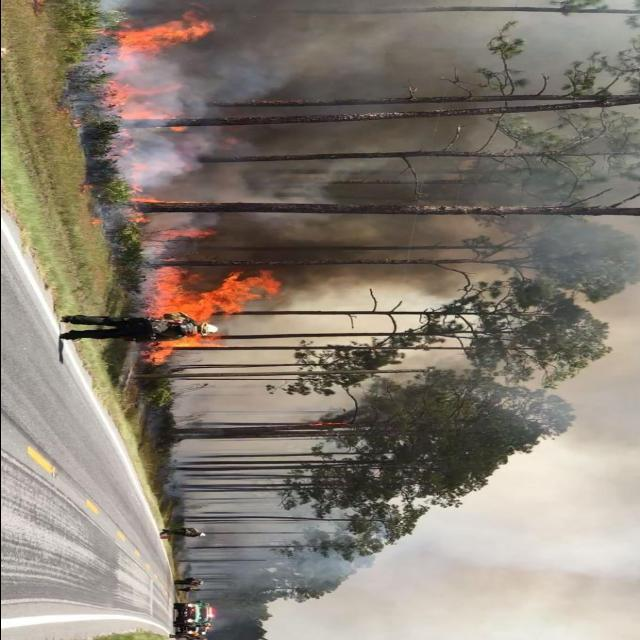Fire: (84, 14, 237, 132), (146, 256, 278, 322), (128, 158, 228, 224), (147, 336, 216, 367), (157, 228, 217, 244)
